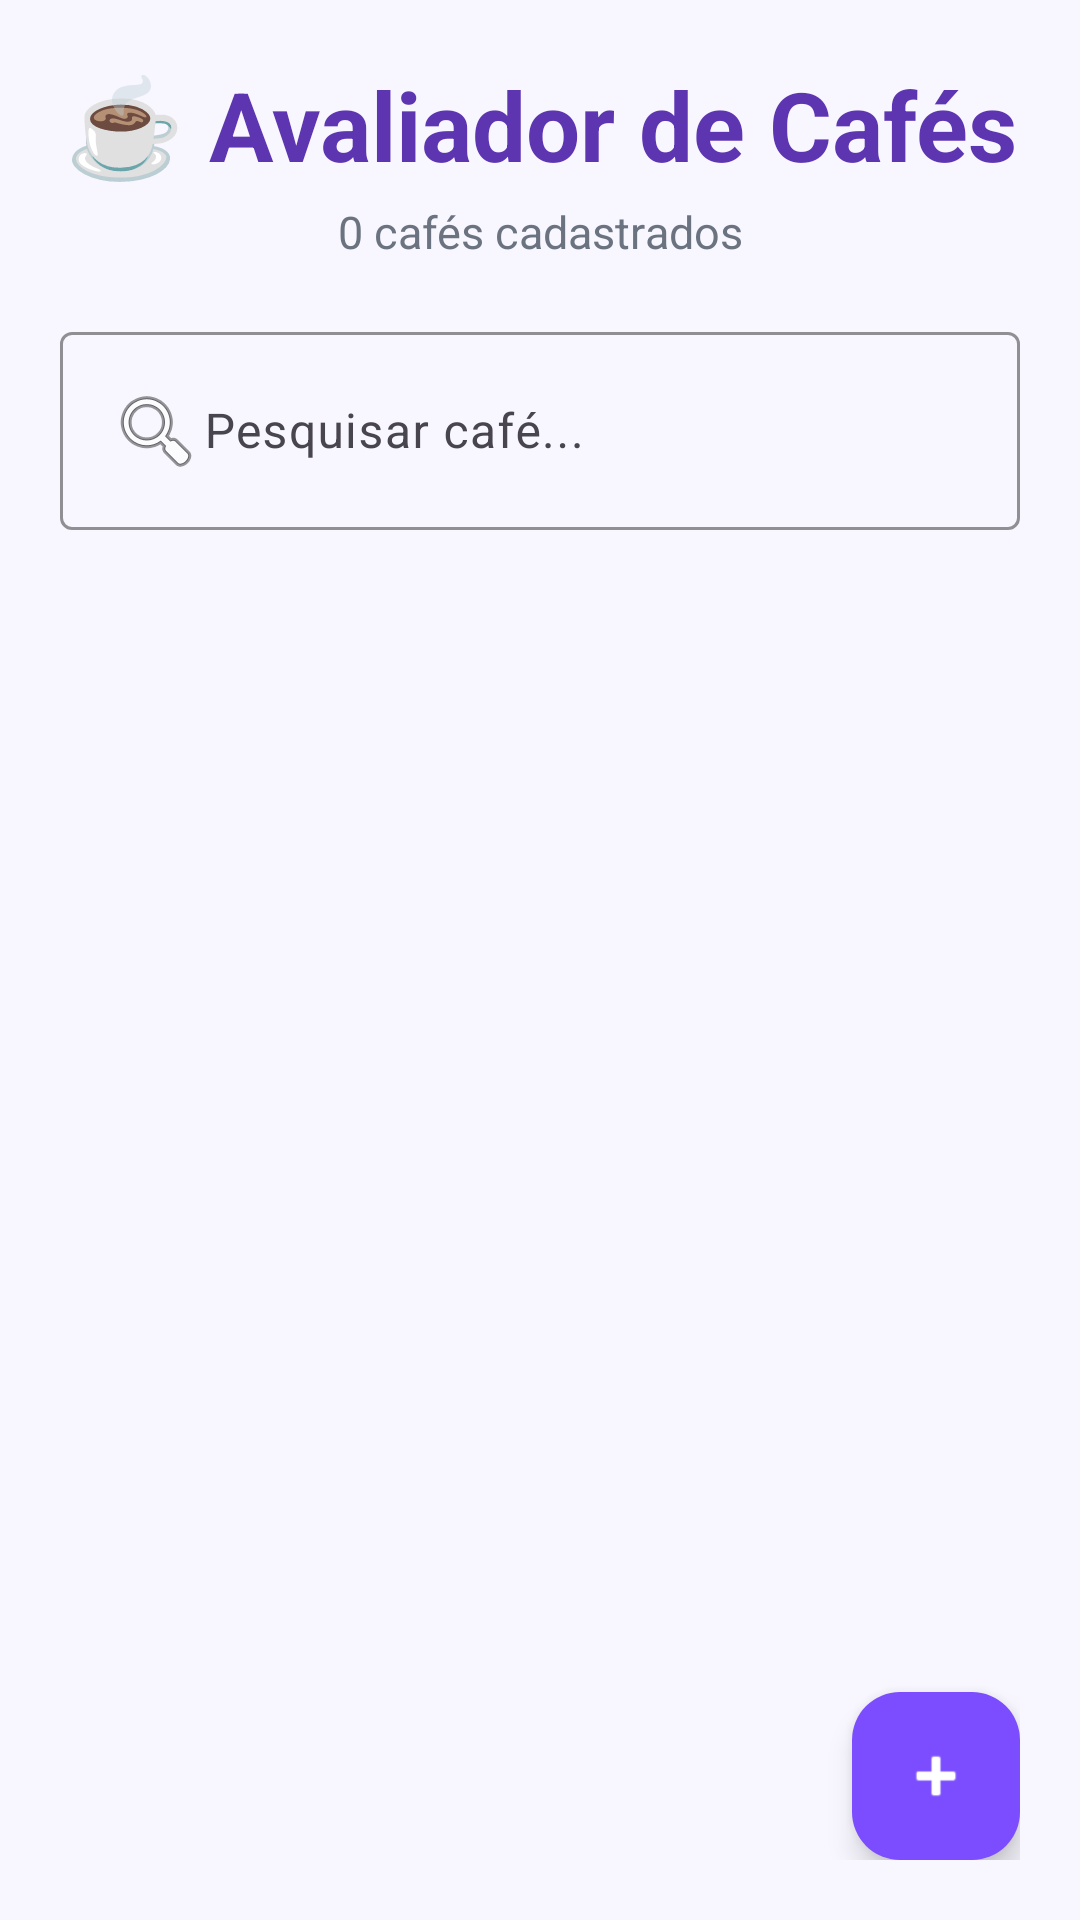

Locate icon controls on the screen. Image size 1080x1920, boxes as [x1, y1, x2, y2].
Adicionar café: [852, 1692, 1020, 1860]
